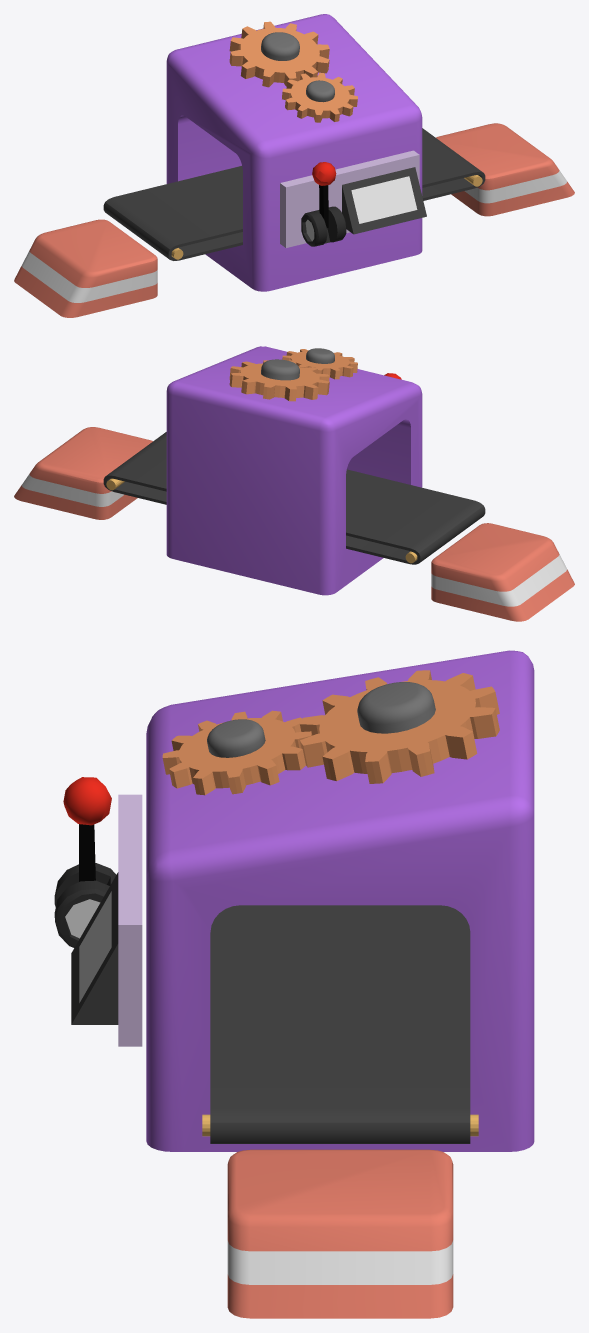
Rendered from makina6.fbx.
3 renders of one model, top to bottom at view 1: azimuth 30°, elevation 25°; view 2: azimuth 150°, elevation 25°; view 3: azimuth 270°, elevation 25°, orthographic. The views are drawn at different scales.
Visible parts, largest first — view 1: govde.006, stack.007, palet.005, cark, cark3, kol.002; view 2: govde.006, stack.007, palet.005, cark, cark3; view 3: govde.006, palet.005, stack.007, cark, cark3, kol.002.
Part boxes in pixels (box(x1,y1,x2,y2)): govde.006: box(166, 14, 426, 291); stack.007: box(14, 123, 574, 317); palet.005: box(103, 128, 485, 260); cark: box(229, 21, 329, 87); cark3: box(282, 72, 357, 122); kol.002: box(312, 162, 336, 227); govde.006: box(166, 346, 422, 595); stack.007: box(14, 427, 574, 621); palet.005: box(103, 432, 485, 564); cark: box(229, 359, 329, 401); cark3: box(282, 348, 357, 379); govde.006: box(54, 650, 534, 1151); palet.005: box(202, 905, 478, 1143); stack.007: box(227, 1149, 453, 1318); cark: box(300, 670, 499, 783); cark3: box(162, 710, 312, 795); kol.002: box(63, 777, 111, 881).
Size of the model in its own units: 611 by 216 by 247.
